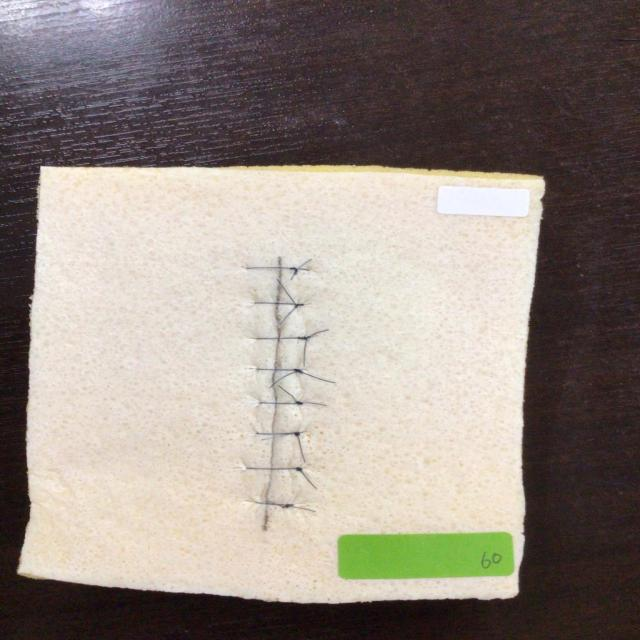knot: (287, 265, 300, 277), (296, 334, 313, 342), (291, 367, 306, 376), (292, 302, 306, 310), (280, 502, 291, 510), (293, 400, 306, 406), (294, 466, 304, 473), (293, 431, 302, 438)
leftover: (275, 278, 298, 307), (267, 370, 300, 389), (299, 370, 336, 384), (297, 468, 318, 490), (294, 433, 307, 464), (277, 384, 298, 403), (259, 431, 297, 441), (278, 306, 297, 326), (285, 504, 317, 513), (294, 258, 313, 271), (307, 328, 329, 338), (302, 337, 308, 367), (298, 401, 327, 407), (266, 500, 286, 508), (289, 271, 297, 281)
stitch: (245, 266, 309, 271), (253, 301, 304, 306), (254, 430, 304, 435), (244, 466, 302, 470), (254, 336, 308, 340), (254, 367, 304, 371), (254, 501, 294, 506), (258, 401, 302, 405)
wound: (261, 256, 283, 532)
